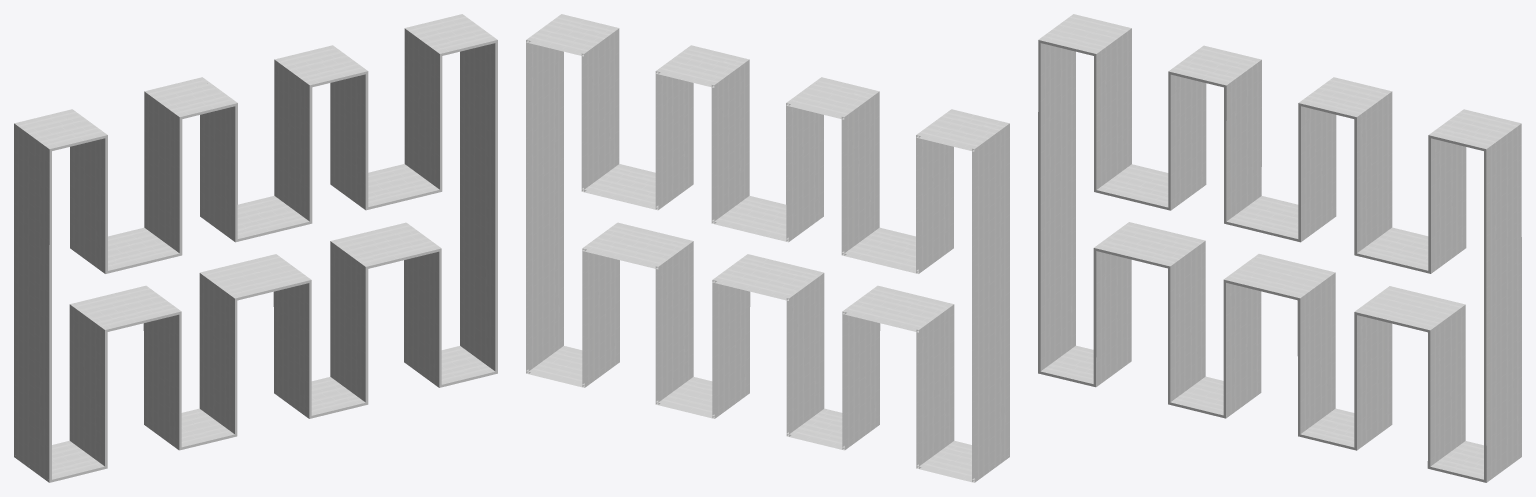
The model's file is wall_1.obj.
The picture shows the model from 3 angles, left to right: view 1: azimuth 30°, elevation 25°; view 2: azimuth 150°, elevation 25°; view 3: azimuth 330°, elevation 25°; orthographic projection.
Parts seen in each view (by area): view 1: walls; view 2: walls; view 3: walls.
Part boxes in pixels (box(x1,y1,x2,y2)): walls: box(14, 14, 497, 482); walls: box(526, 14, 1009, 482); walls: box(1038, 14, 1521, 482).
Size of the model in its own units: 18.29 by 13.03 by 2.5.
